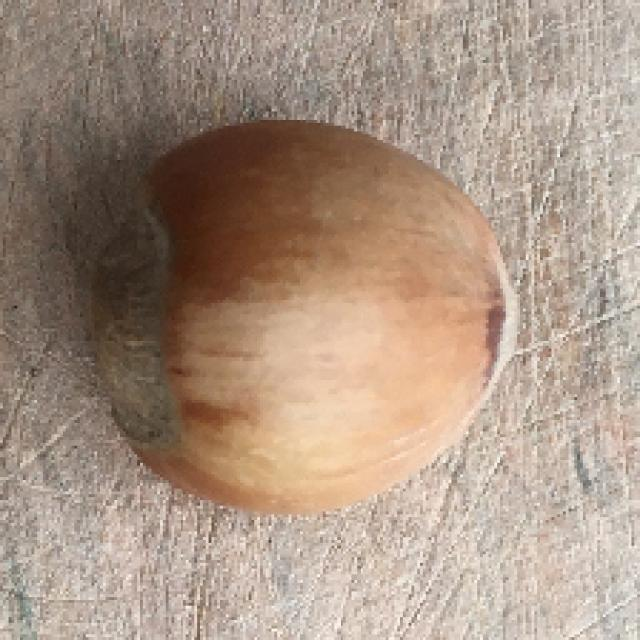damagedHazelnut: (89, 117, 528, 515)
